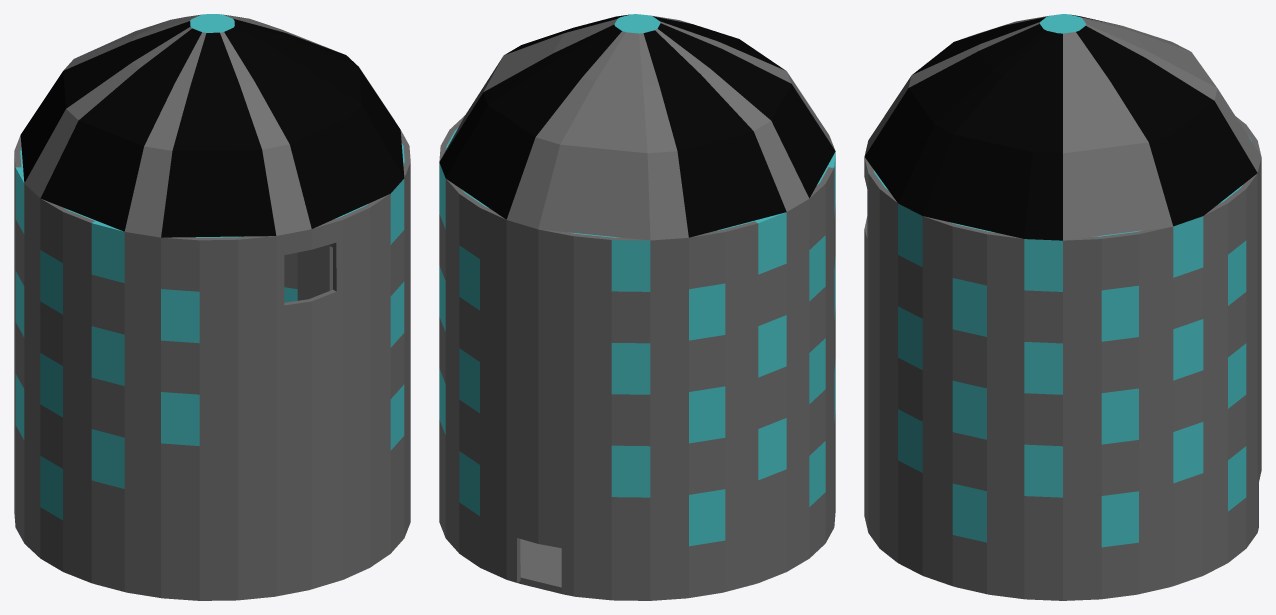
File: finalroom.fbx
3 views of the same model, side by side, from view 1: azimuth 30°, elevation 25°; view 2: azimuth 150°, elevation 25°; view 3: azimuth 270°, elevation 25° (orthographic).
Parts seen in each view (by area): view 1: Cylinder; view 2: Cylinder, Cylinder.002; view 3: Cylinder.
Part boxes in pixels (bbox=[...]): Cylinder: bbox=[14, 14, 410, 600]; Cylinder: bbox=[439, 14, 835, 600]; Cylinder.002: bbox=[517, 539, 747, 600]; Cylinder: bbox=[864, 14, 1261, 600].
Size of the model in its own units: 5673 by 7818 by 5673.
